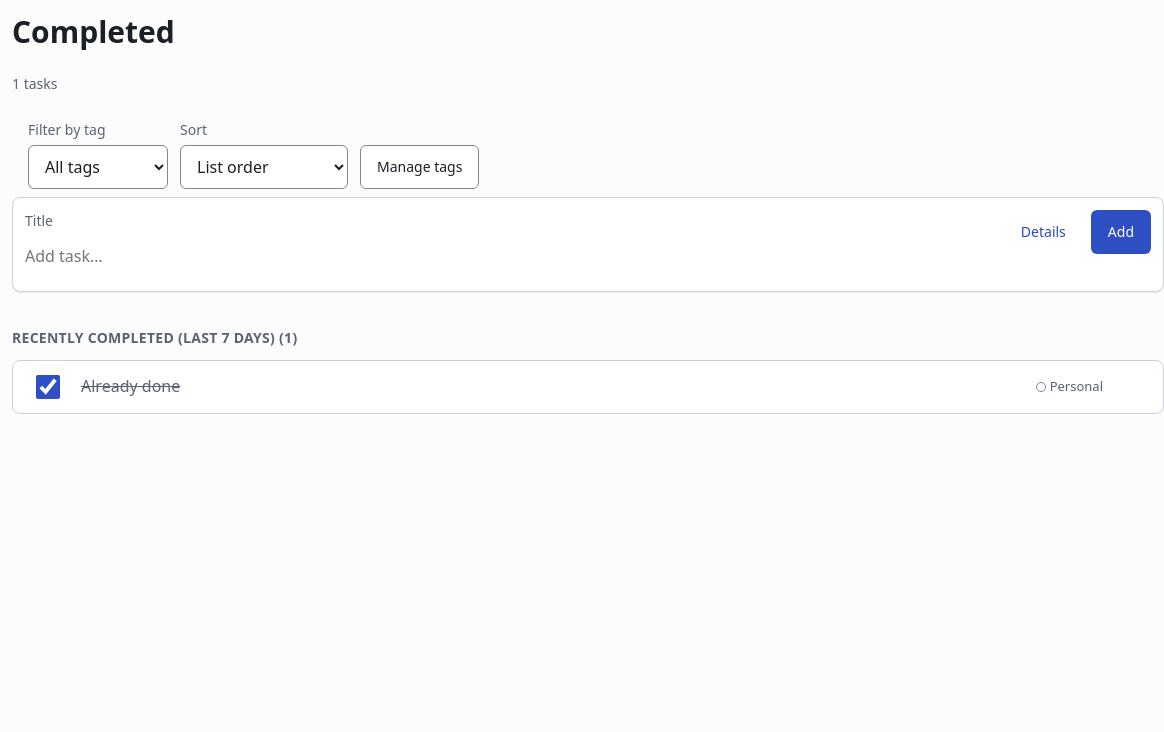
Scenario: M4 complete/uncomplete — §5.6 optimism, F3 retention, §5.5 announcements › uncompletes from Completed: state open, completedAt cleared, announced
Click the checkbox named "Mark \"Already done\" as not complete".
click(48, 387)  # box [36,375,60,399]
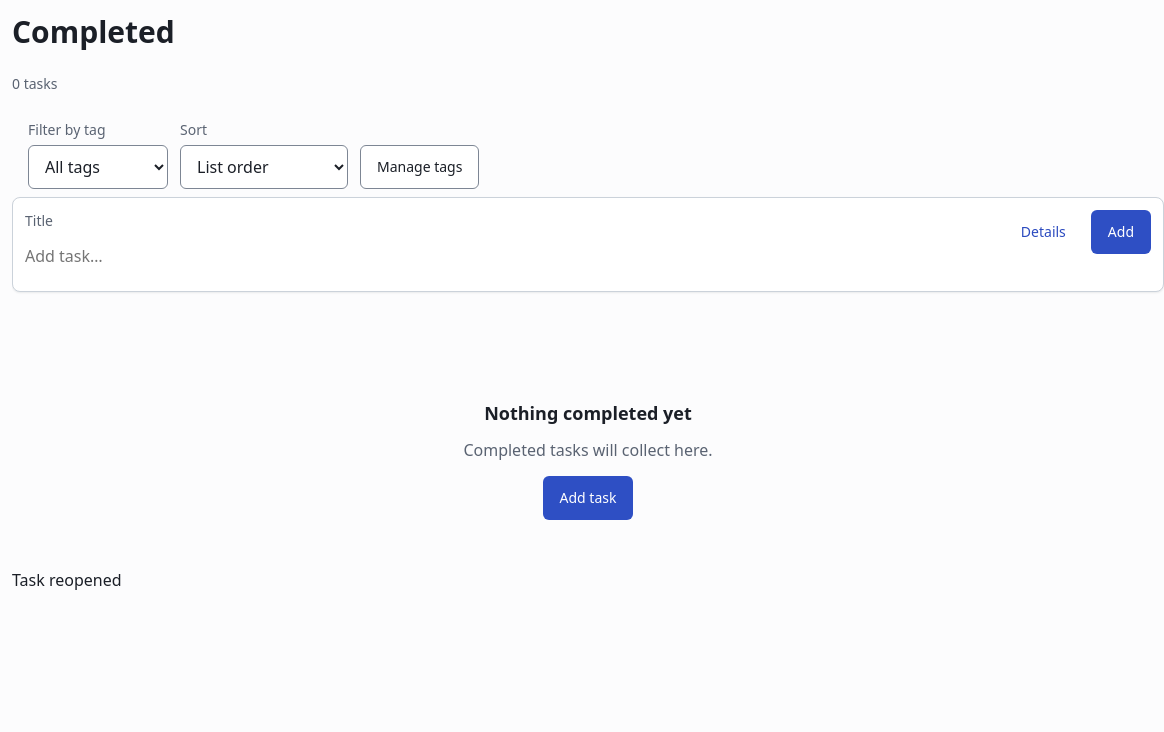
Check: the text "Task reopened" is shown, box [12,569,122,591]
